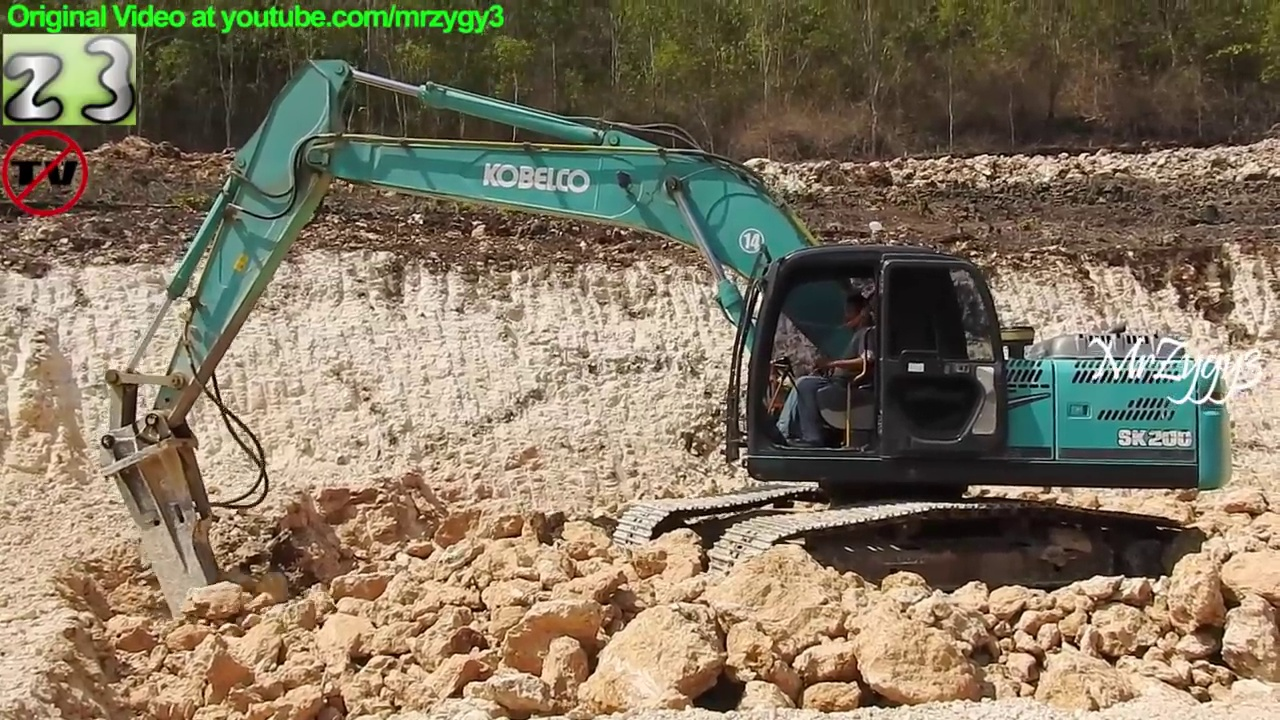excavator breaker: (92, 51, 1243, 644)
